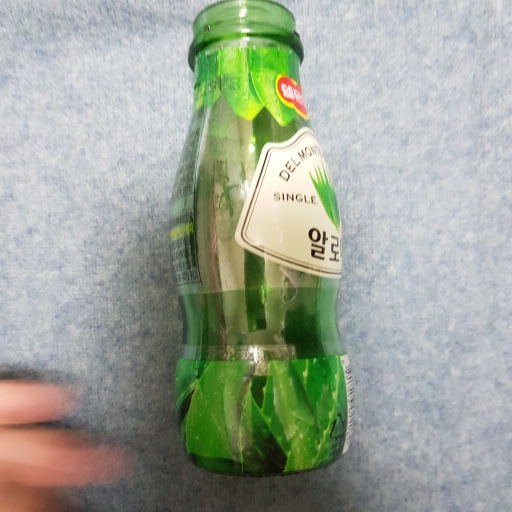Glass_4: (168, 2, 367, 473)
